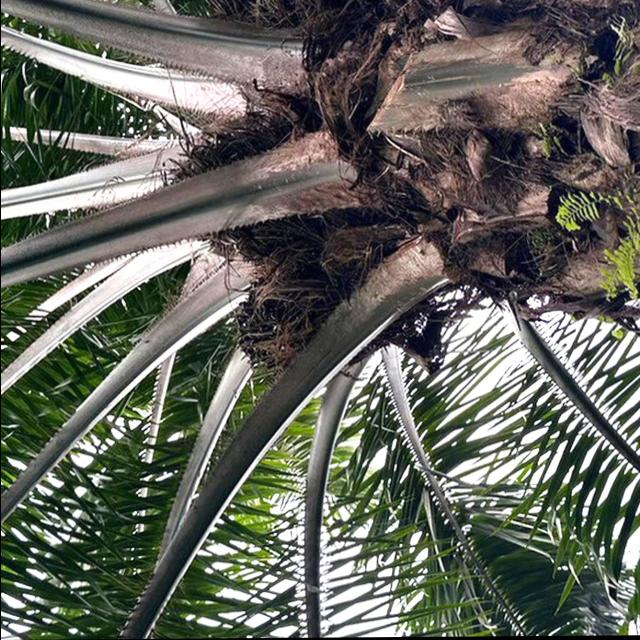unripe: (225, 257, 347, 378)
